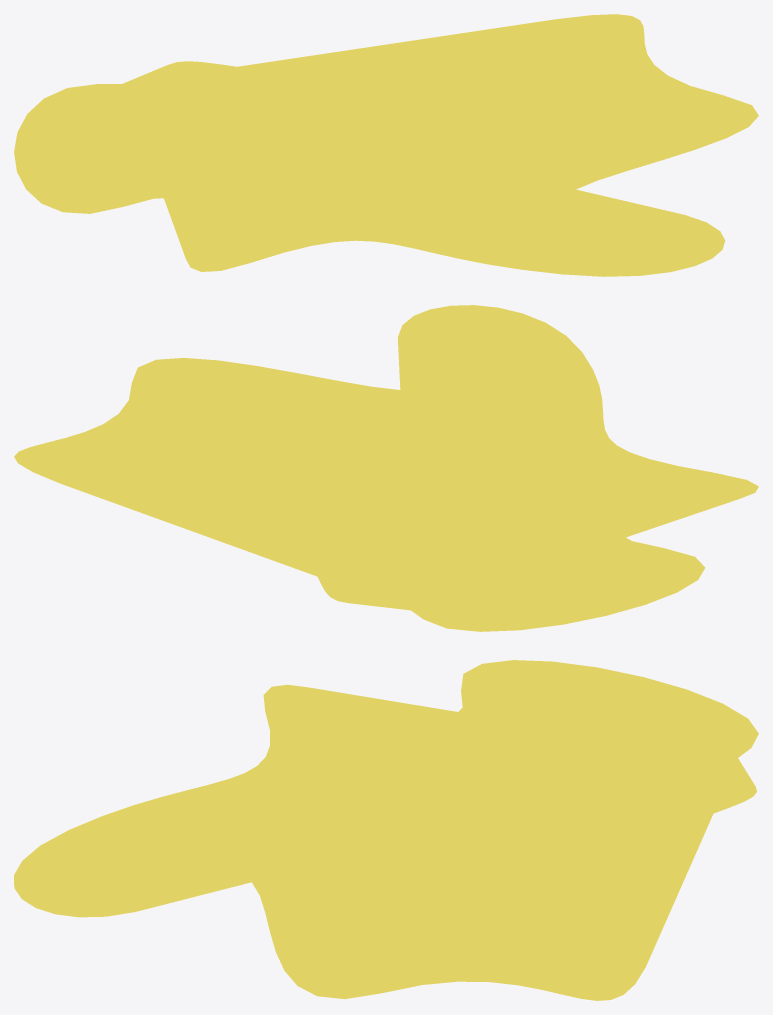
File: plama2.fbx
3 renders of one model, top to bottom at view 1: azimuth 30°, elevation 25°; view 2: azimuth 150°, elevation 25°; view 3: azimuth 270°, elevation 25°, orthographic. The views are drawn at different scales.
Visible parts, largest first — view 1: plama2; view 2: plama2; view 3: plama2.
Boxes of the visible parts, bbox=[...] form: plama2: bbox=[14, 14, 758, 276]; plama2: bbox=[14, 305, 758, 631]; plama2: bbox=[14, 660, 758, 1000].
Size of the model in its own units: 245 by 3.69e-05 by 227.
